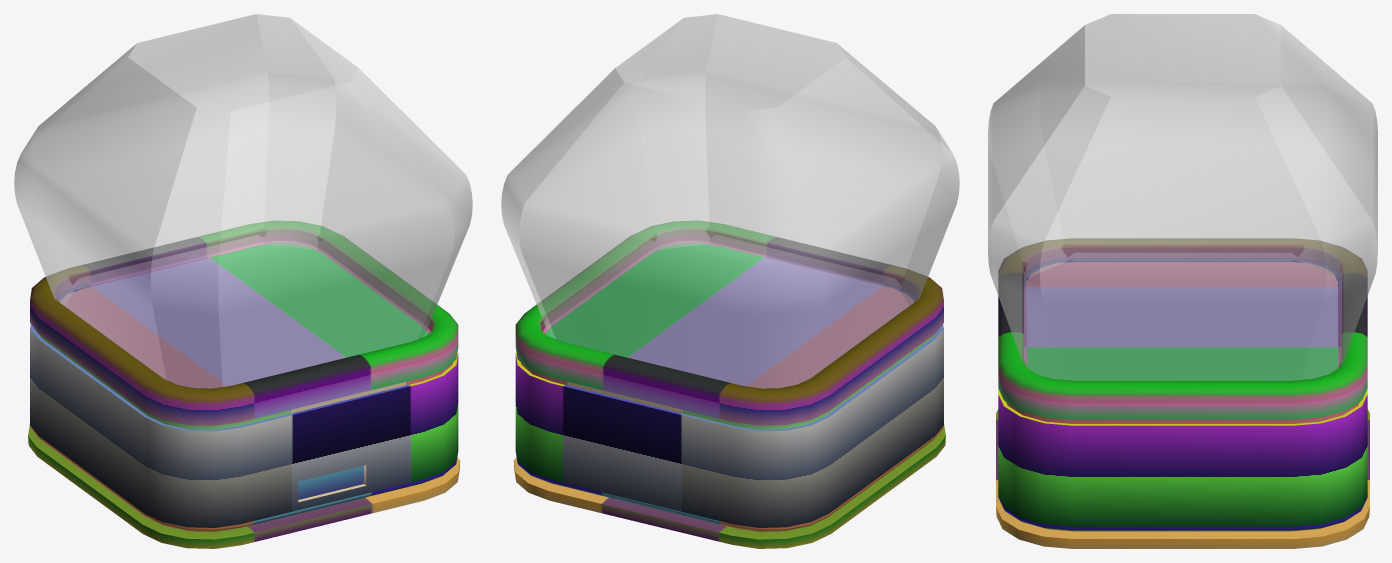
File: Flora Sample Container_2.fbx
3 renders of one model, left to right at view 1: azimuth 30°, elevation 25°; view 2: azimuth 150°, elevation 25°; view 3: azimuth 270°, elevation 25°, orthographic. The views are drawn at different scales.
Visible parts, largest first — view 1: C2; view 2: C2; view 3: C2.
Boxes of the visible parts, bbox=[...] form: C2: bbox=[14, 14, 472, 548]; C2: bbox=[501, 14, 959, 548]; C2: bbox=[988, 14, 1377, 548].
Size of the model in its own units: 492 by 578 by 492.
2 materials, 1 textured.
